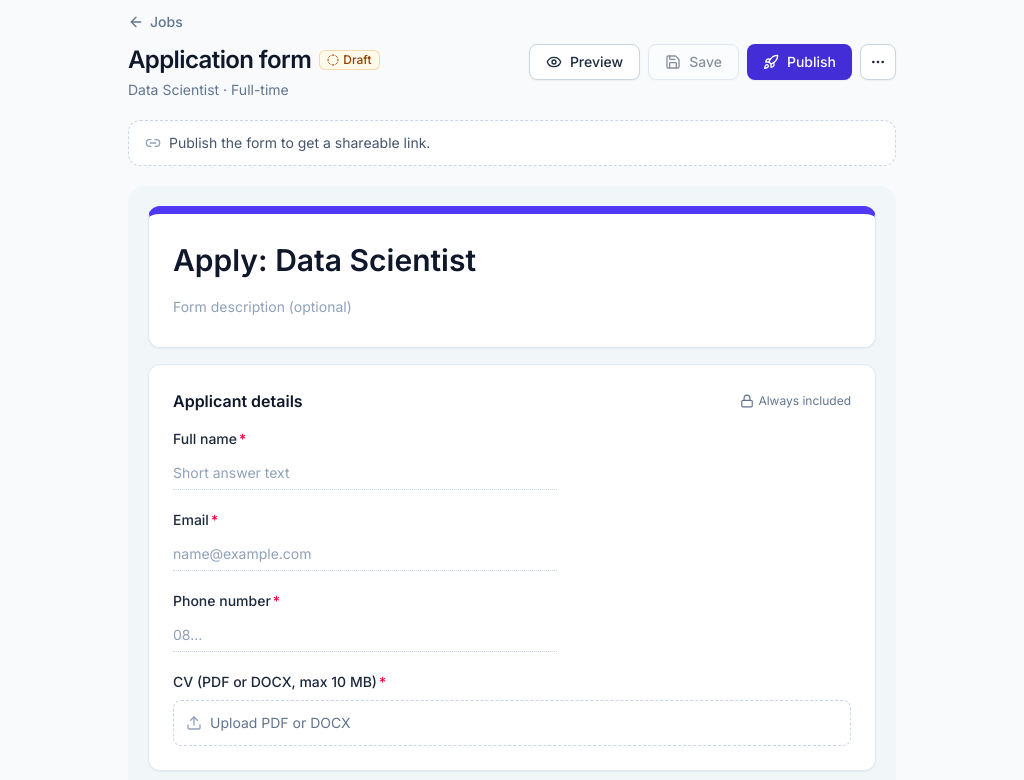
Scenario: FormBuilderPage › publishes a draft and then shows the link bar
This screenshot has width=1024, height=780.
Expected: the text "Publish the form to get a shareable link." is shown, [128,120,896,166]
Expected: the field showing "http://localhost:5173/apply/k3J9xQ2mP0aB" is not shown
Click the button "Publish": {"x": 799, "y": 62} [747,44,852,80]
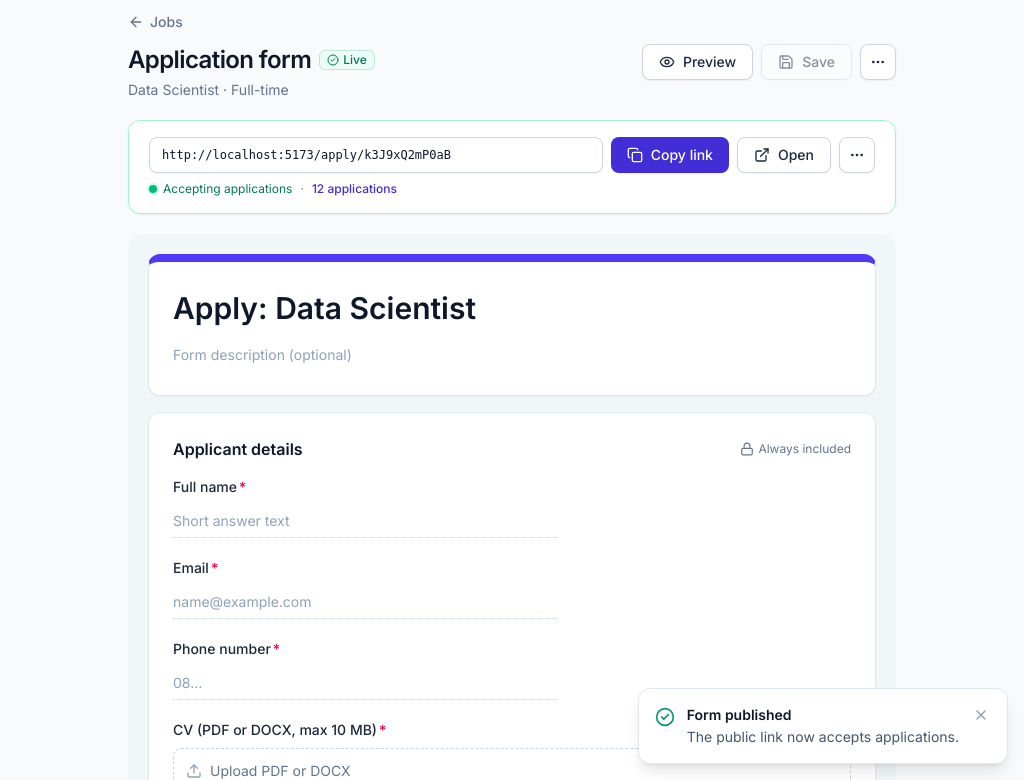
Expected: the field showing "http://localhost:5173/apply/k3J9xQ2mP0aB" is shown, [149,137,603,173]
